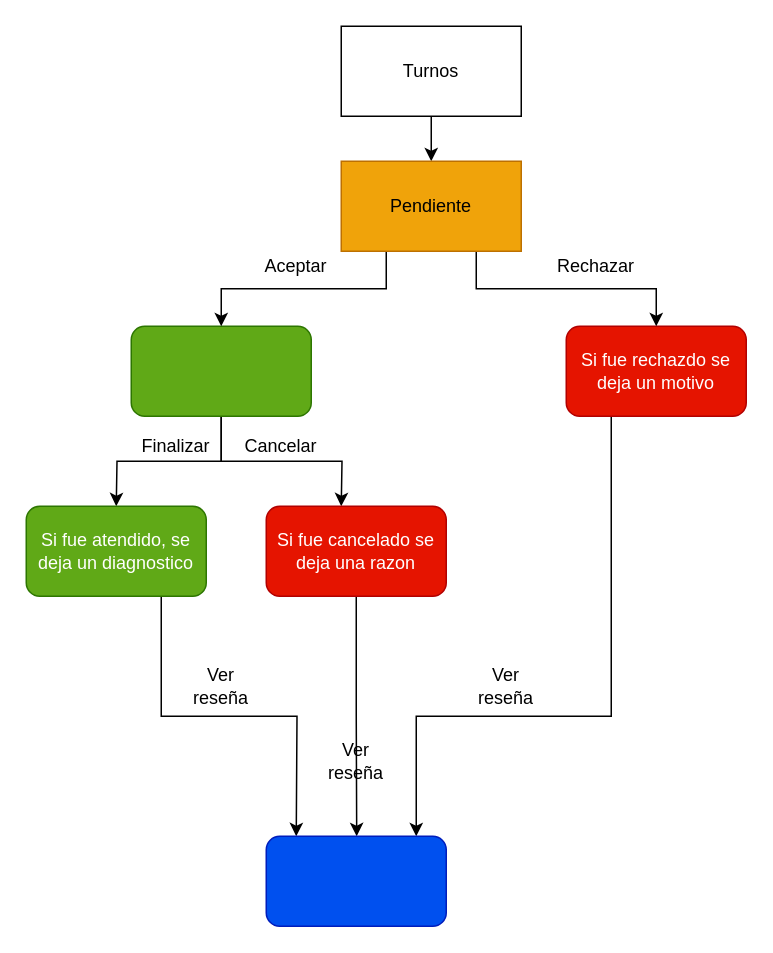
Image size: 773x953. Some labels were removed from this diagram. Each missing label, with the box of its shape:
Se puede leer el comentario dejado: (265, 835, 446, 926)
Una vez aceptado se puede:: (130, 325, 311, 416)
